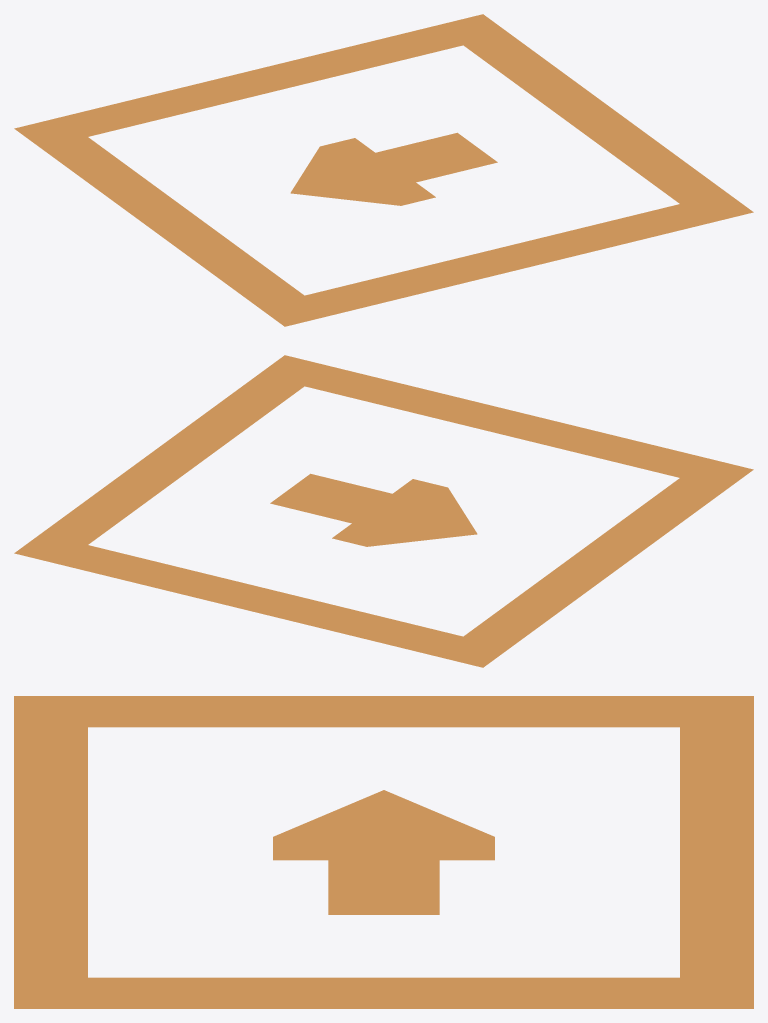
File: indicator_special_arrow.glb
3 renders of one model, top to bottom at view 1: azimuth 30°, elevation 25°; view 2: azimuth 150°, elevation 25°; view 3: azimuth 270°, elevation 25°, orthographic. The views are drawn at different scales.
Visible parts, largest first — view 1: indicator-special-arrow; view 2: indicator-special-arrow; view 3: indicator-special-arrow.
Part boxes in pixels (x1,y1,x2,y2): indicator-special-arrow: [14, 14, 753, 326]; indicator-special-arrow: [14, 355, 753, 667]; indicator-special-arrow: [14, 696, 753, 1008].
Size of the model in its own units: 1 by 0 by 1.
1 material, 1 textured.
